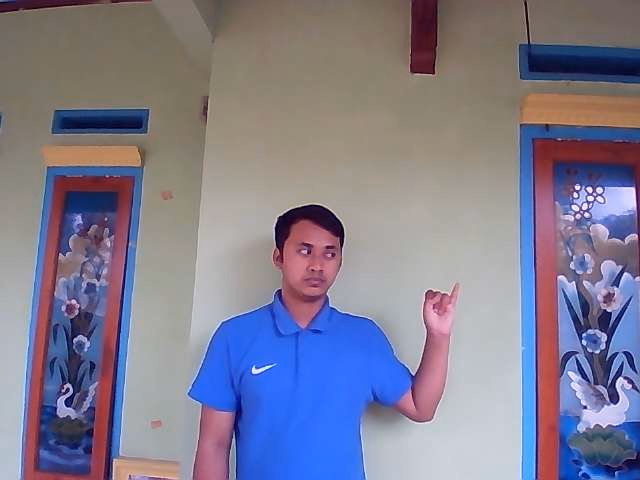I: (423, 282, 461, 337)
